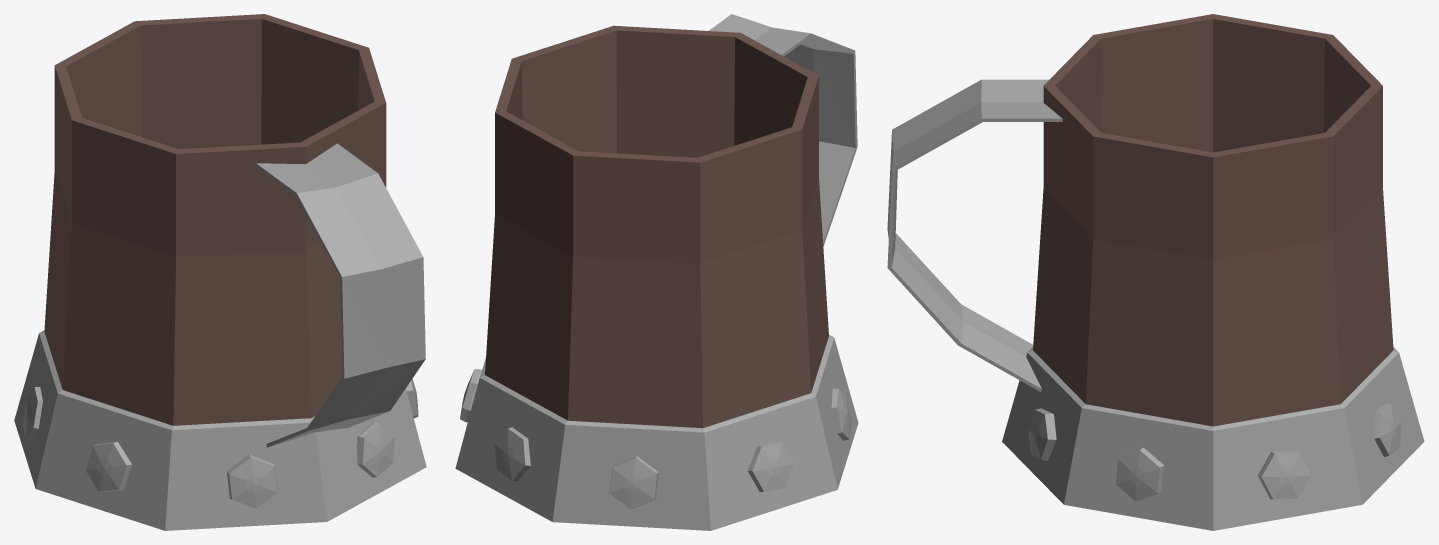
File: Cup.fbx
3 views of the same model, side by side, from view 1: azimuth 30°, elevation 25°; view 2: azimuth 150°, elevation 25°; view 3: azimuth 270°, elevation 25° (orthographic). The views are drawn at different scales.
Parts seen in each view (by area): view 1: Cup; view 2: Cup; view 3: Cup.
Part boxes in pixels (left/top/right/bottom): Cup: left=14, top=14, right=426, bottom=530; Cup: left=455, top=14, right=858, bottom=530; Cup: left=887, top=14, right=1424, bottom=530.
Bounding box in the file's own units: 0.6222 × 0.5784 × 0.7908.
